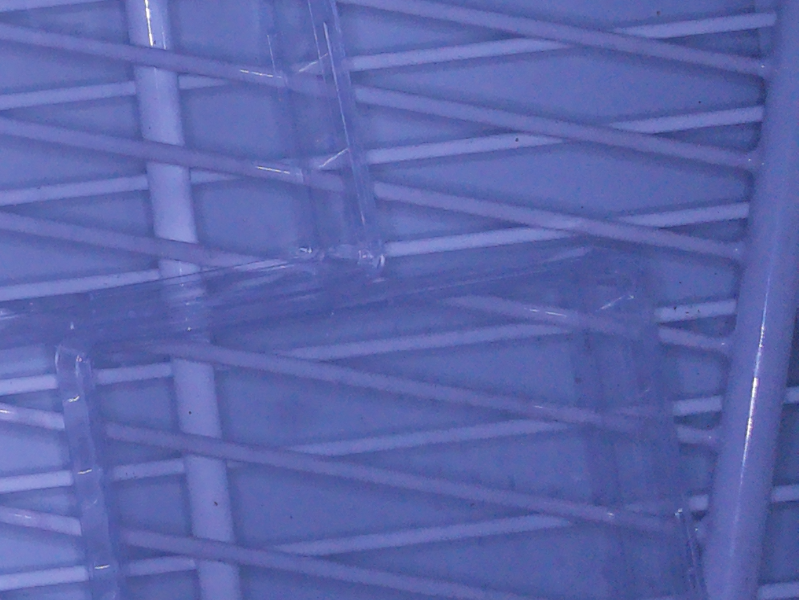plate: (52, 237, 710, 600), (1, 1, 385, 353)
